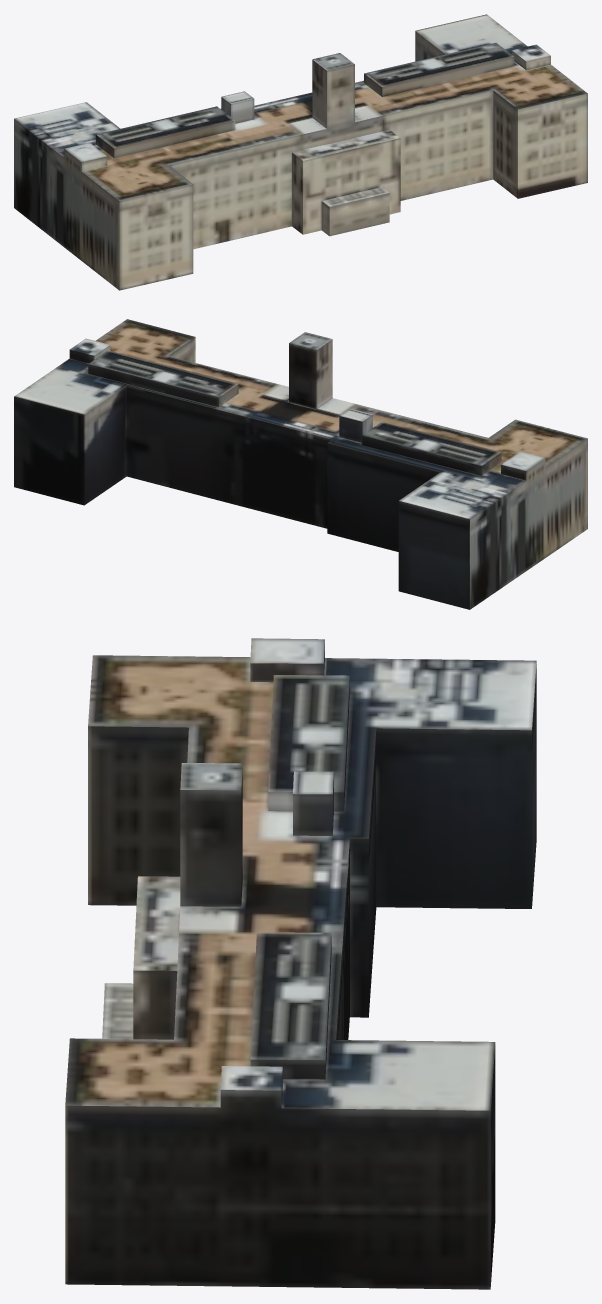
File: kyoto-cityhall.glb
3 views of the same model, one above another, from view 1: azimuth 30°, elevation 25°; view 2: azimuth 150°, elevation 25°; view 3: azimuth 270°, elevation 25° (orthographic). The views are drawn at different scales.
Visible parts, largest first — view 1: 京都市役所; view 2: 京都市役所; view 3: 京都市役所.
Part boxes in pixels (<box>): 京都市役所: <box>14,14,587,290</box>; 京都市役所: <box>14,319,587,609</box>; 京都市役所: <box>65,638,536,1289</box>.
Size of the model in its own units: 113 by 34.13 by 49.37.
2 materials, 1 textured.
